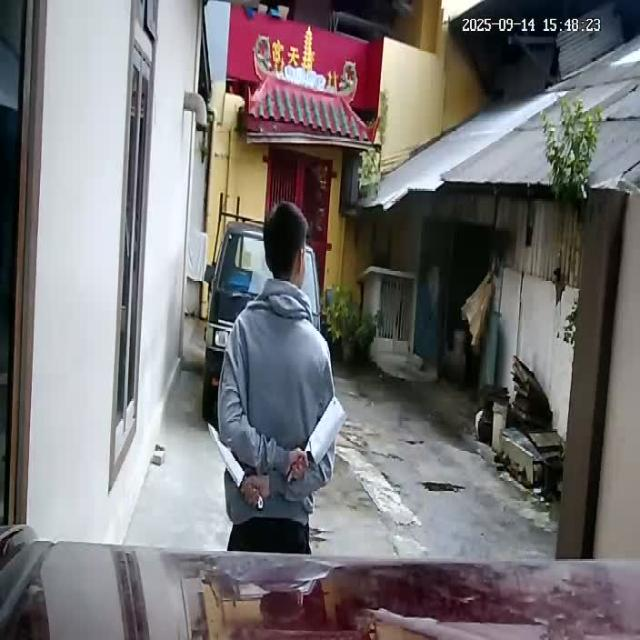senjata_tajam: (306, 392, 351, 464), (207, 422, 247, 488)
